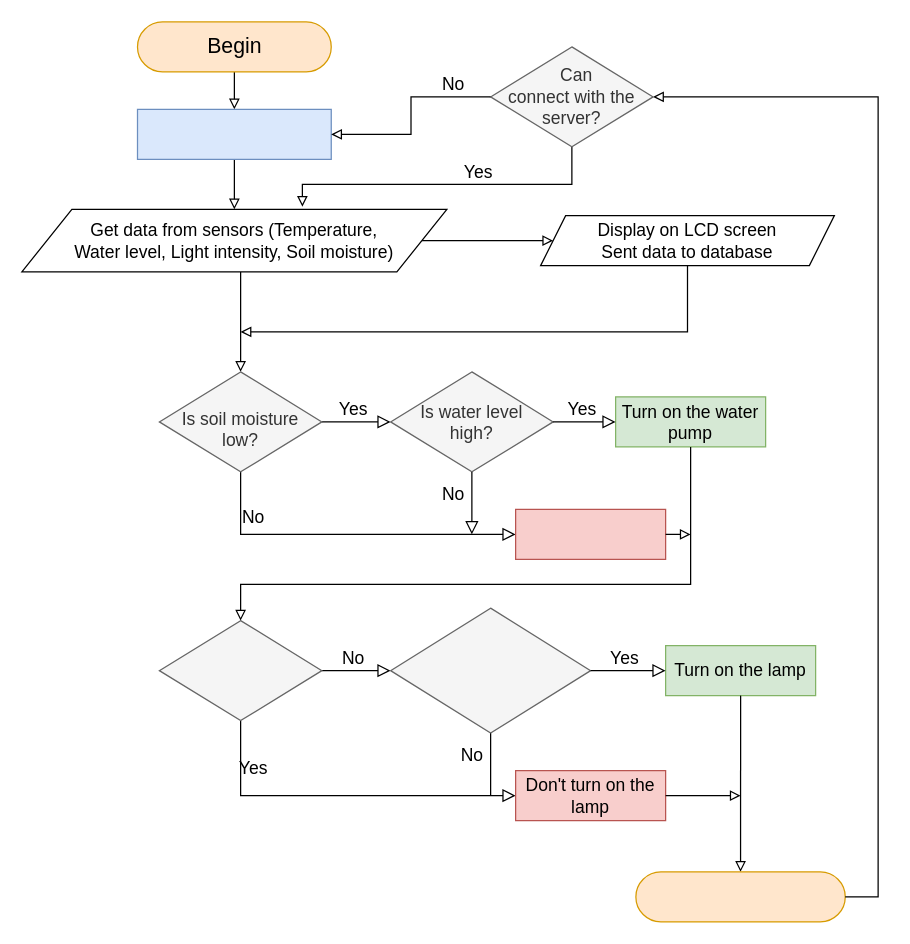
This 910x944 diagram has some shape labels left out. The shapes that lost their labels are listed below. From the top down, each one's centre as x and y in pixels, then its label:
At (233,133): "Connect with wi-fi".
At (590,533): "Don't turn on the water pump".
At (240,670): "Is light intensity enough?".
At (490,670): "Is time between 7.00am and 6.00pm?".
At (740,896): "Sleep for 10 sec".
